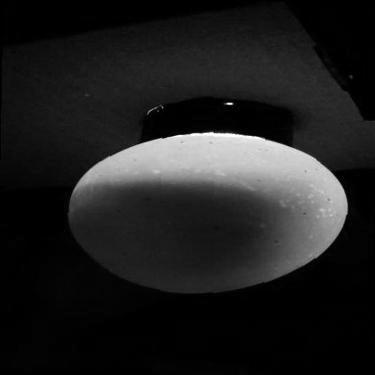telur: (61, 125, 353, 301)
